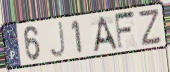1: (70, 19, 84, 55)
6: (23, 25, 42, 62)
A: (92, 15, 119, 54)
F: (113, 9, 137, 52)
J: (48, 20, 67, 59)
Z: (138, 8, 163, 48)
